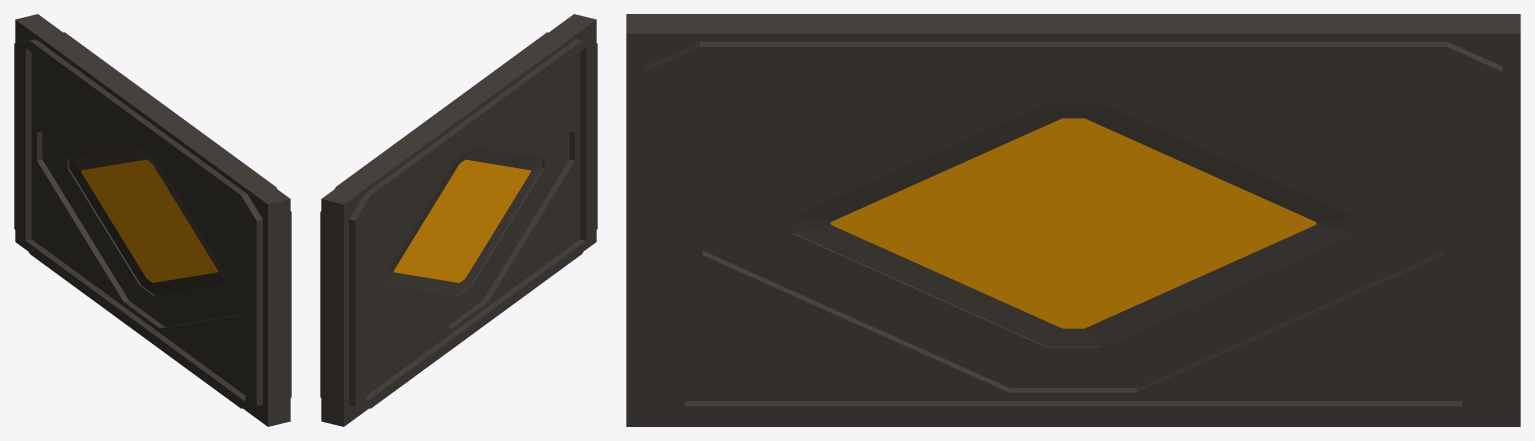
The model's file is Door_Down.fbx.
The picture shows the model from 3 angles, left to right: view 1: azimuth 30°, elevation 25°; view 2: azimuth 150°, elevation 25°; view 3: azimuth 270°, elevation 25°; orthographic projection. The views are drawn at different scales.
Parts seen in each view (by area): view 1: Cube.003; view 2: Cube.003; view 3: Cube.003.
Boxes of the visible parts, x1=… form: Cube.003: x1=14, y1=14, x2=291, y2=426; Cube.003: x1=320, y1=14, x2=597, y2=426; Cube.003: x1=626, y1=14, x2=1520, y2=426.
Size of the model in its own units: 32.3 by 196 by 405.
